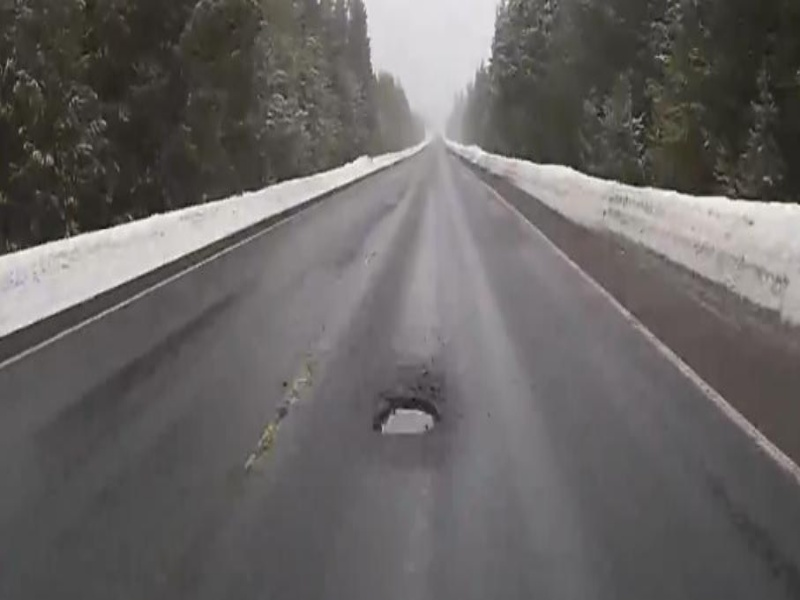pothole: (371, 393, 443, 443)
